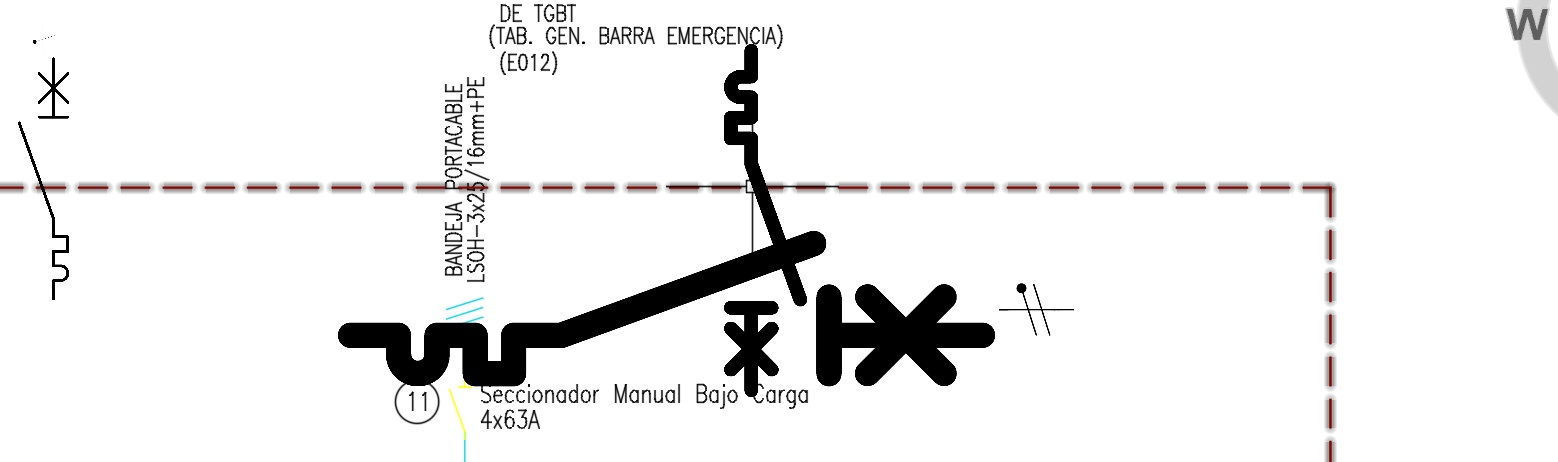interruptor_termomagnetico: (334, 227, 999, 390), (722, 42, 809, 399), (13, 52, 74, 304)
